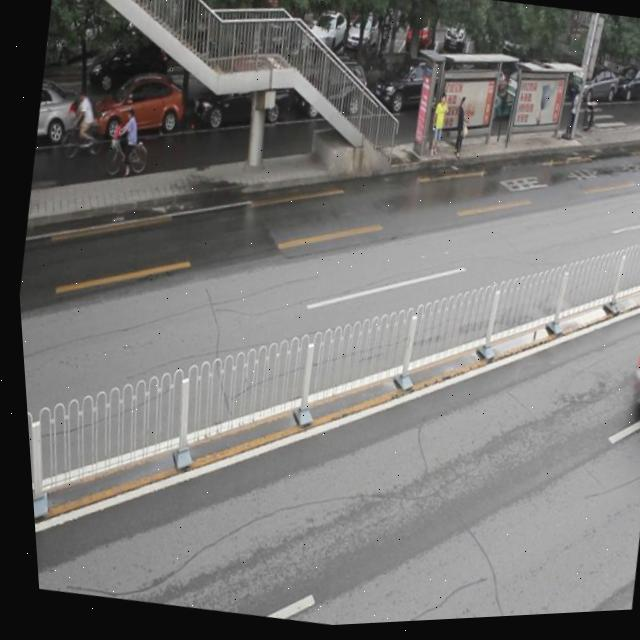car: (183, 65, 292, 148), (87, 61, 190, 146), (367, 56, 453, 130), (289, 53, 371, 130), (31, 79, 84, 149)
